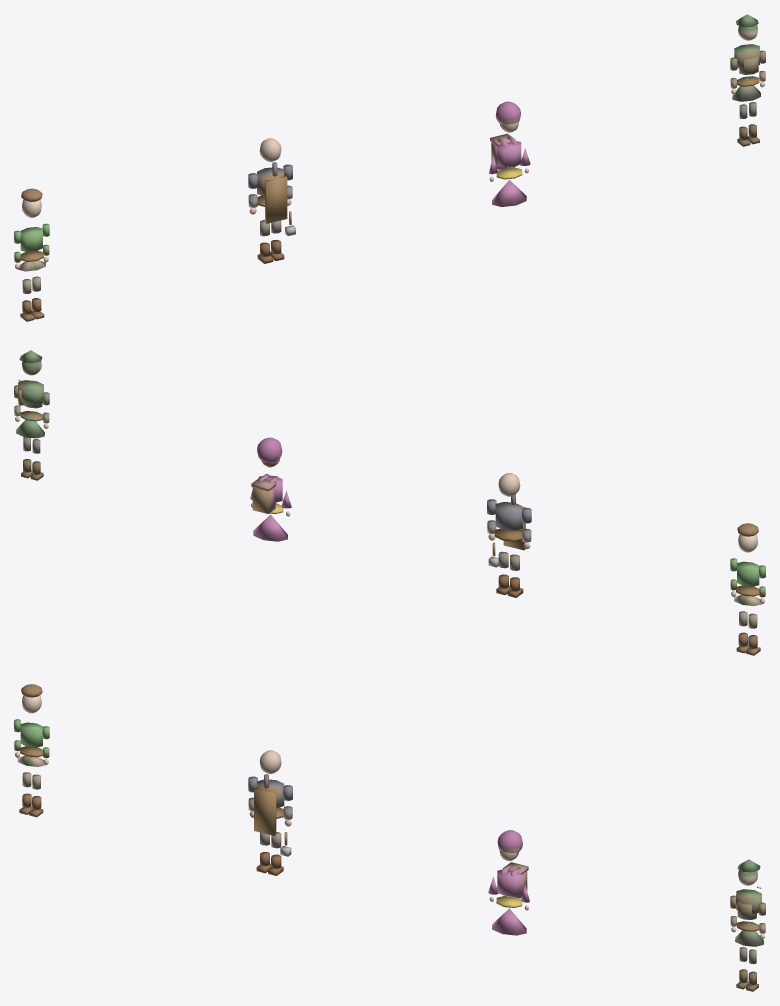
The model's file is npcs.glb.
3 views of the same model, one above another, from view 1: azimuth 30°, elevation 25°; view 2: azimuth 150°, elevation 25°; view 3: azimuth 330°, elevation 25° (orthographic).
Parts seen in each view (by area): view 1: Blacksmith, Scout, Merchant, Villager; view 2: Blacksmith, Scout, Villager, Merchant; view 3: Blacksmith, Scout, Merchant, Villager.
Boxes of the visible parts, <box> form: Blacksmith: <box>248,138,295,263</box>; Scout: <box>730,14,765,146</box>; Merchant: <box>489,101,530,206</box>; Villager: <box>14,188,49,321</box>; Blacksmith: <box>487,473,531,597</box>; Scout: <box>14,350,49,480</box>; Villager: <box>730,523,765,655</box>; Merchant: <box>250,437,291,541</box>; Blacksmith: <box>248,750,292,875</box>; Scout: <box>730,859,765,991</box>; Merchant: <box>488,830,529,935</box>; Villager: <box>14,684,49,817</box>.
Size of the model in its own units: 9.44 by 1.53 by 0.38.
